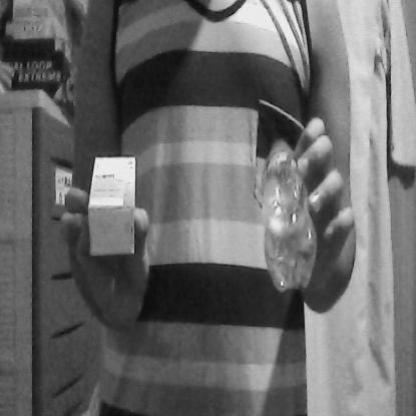Plastic Bottle: (253, 122, 324, 302)
